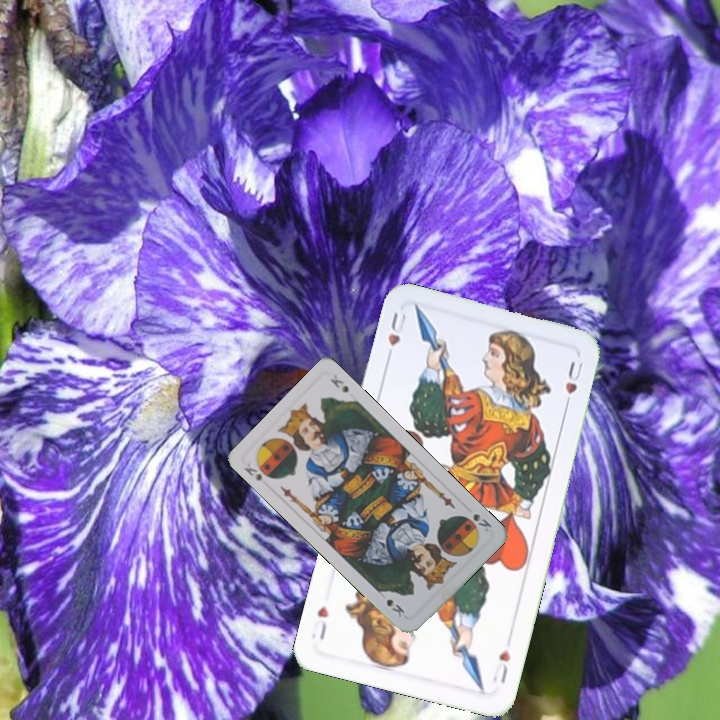HU: (382, 308, 409, 364), (488, 645, 513, 686)
SK: (240, 458, 276, 484), (469, 510, 494, 534)
